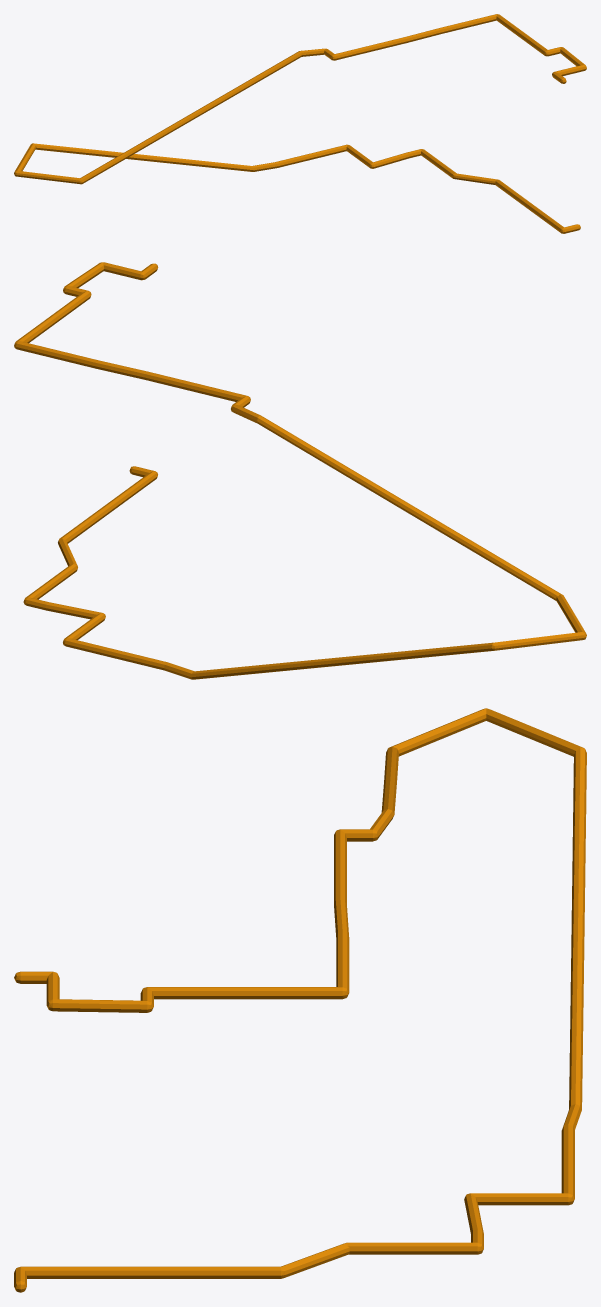
3 renders of one model, top to bottom at view 1: azimuth 30°, elevation 25°; view 2: azimuth 150°, elevation 25°; view 3: azimuth 270°, elevation 25°, orthographic. The views are drawn at different scales.
Bounding box in the file's own units: 1619 × 520 × 880.
